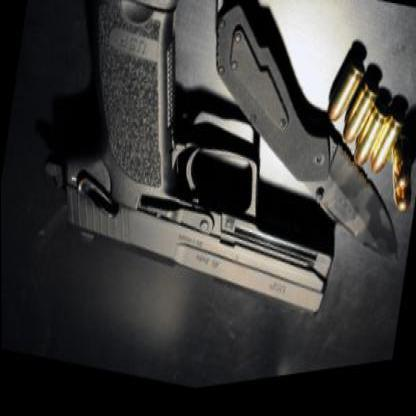pistol: (30, 0, 366, 363)
